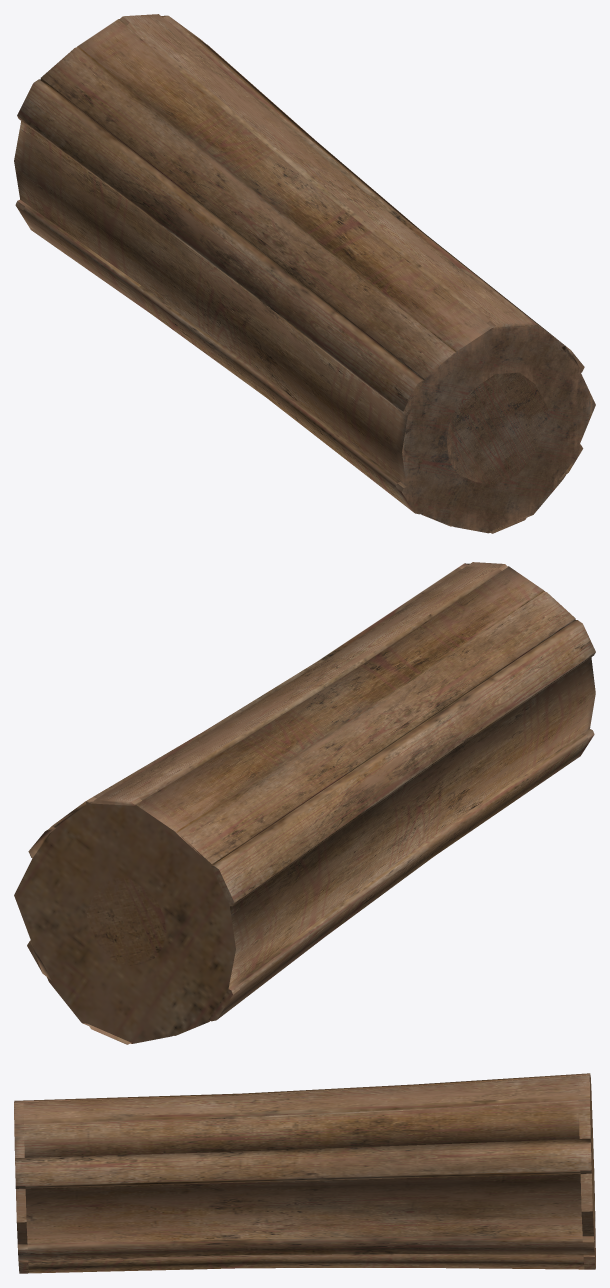
Rendered from trunk2.dae.
3 renders of one model, top to bottom at view 1: azimuth 30°, elevation 25°; view 2: azimuth 150°, elevation 25°; view 3: azimuth 270°, elevation 25°, orthographic. The views are drawn at different scales.
Visible parts, largest first — view 1: tree_stump; view 2: tree_stump; view 3: tree_stump.
Boxes of the visible parts, x1=… form: tree_stump: x1=14, y1=14, x2=595, y2=533; tree_stump: x1=14, y1=562, x2=595, y2=1044; tree_stump: x1=14, y1=1073, x2=595, y2=1273.
Bounding box in the file's own units: 2.28 × 6.72 × 2.42.
1 material, 1 textured.
